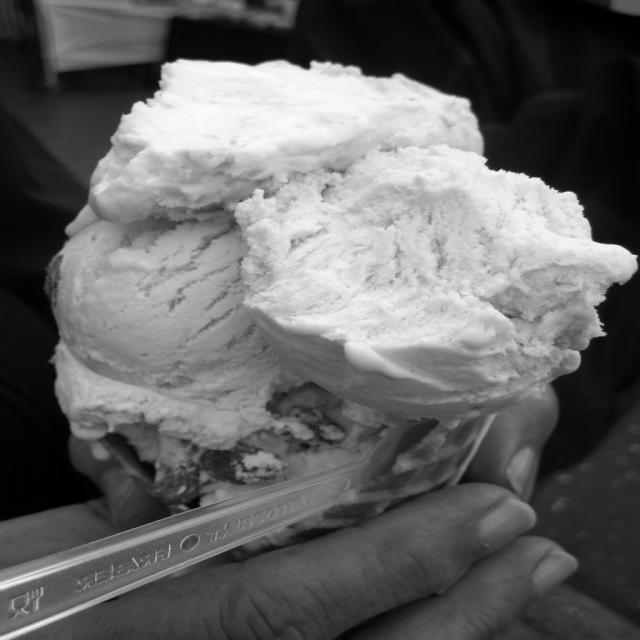Ice cream: (47, 53, 639, 551)
